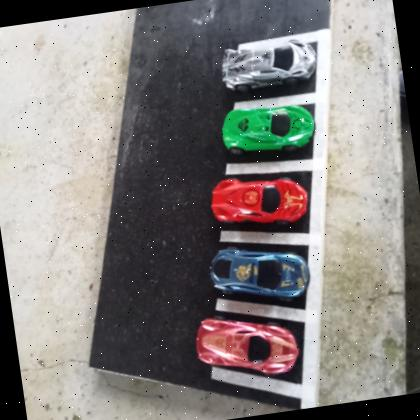Car: (192, 305, 302, 384), (206, 236, 314, 309), (208, 168, 310, 232), (217, 35, 320, 93), (220, 100, 320, 158)
